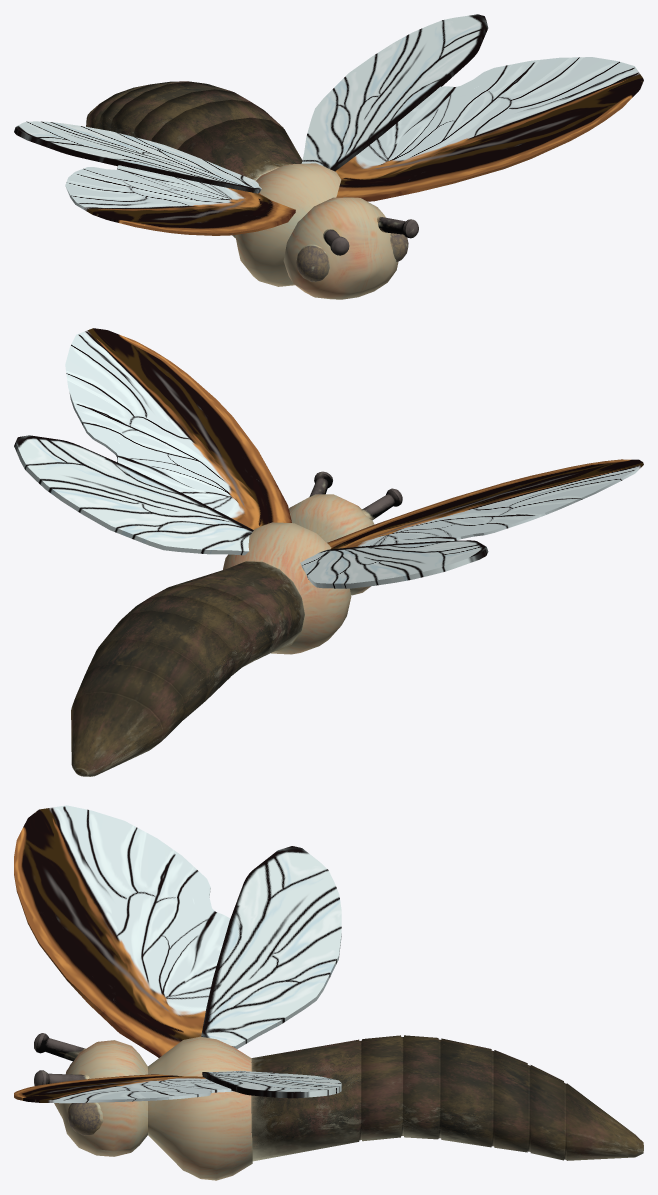
The model's file is firefly.fbx.
3 renders of one model, top to bottom at view 1: azimuth 30°, elevation 25°; view 2: azimuth 150°, elevation 25°; view 3: azimuth 270°, elevation 25°, orthographic. The views are drawn at different scales.
Parts seen in each view (by area): view 1: Cube.021, Cylinder.009, Cube.022, Cylinder.008, Cube.023, Cube.024, Sphere.032, Cylinder.010, Cylinder.011; view 2: Cylinder.008, Cube.021, Cube.022, Cube.023, Cylinder.009, Cube.024, Cylinder.011; view 3: Cube.023, Cylinder.008, Cube.024, Cylinder.009, Cube.021, Cube.022, Sphere.033, Cylinder.011.
Part boxes in pixels (x1,y1,x2,y2): Cube.021: (335,57,643,201); Cylinder.009: (235,163,398,299); Cube.022: (301,14,488,171); Cylinder.008: (86,81,302,238); Cube.023: (65,165,295,235); Cube.024: (14,121,261,193); Sphere.032: (296,244,329,281); Cylinder.010: (377,216,418,238); Cylinder.011: (323,229,349,255); Cylinder.008: (71,561,304,776); Cube.021: (65,328,291,529); Cube.022: (14,435,253,555); Cube.023: (327,459,643,549); Cylinder.009: (223,494,374,654); Cube.024: (300,540,488,588); Cylinder.011: (361,488,402,520); Cube.023: (14,805,230,1057); Cylinder.008: (251,1035,643,1161); Cube.024: (201,846,341,1048); Cylinder.009: (54,1036,252,1180); Cube.021: (14,1074,234,1103); Cube.022: (202,1070,341,1098); Sphere.033: (67,1102,103,1135); Cylinder.011: (34,1033,85,1061).
Bounding box in the file's own units: 132 × 44.91 × 119.
